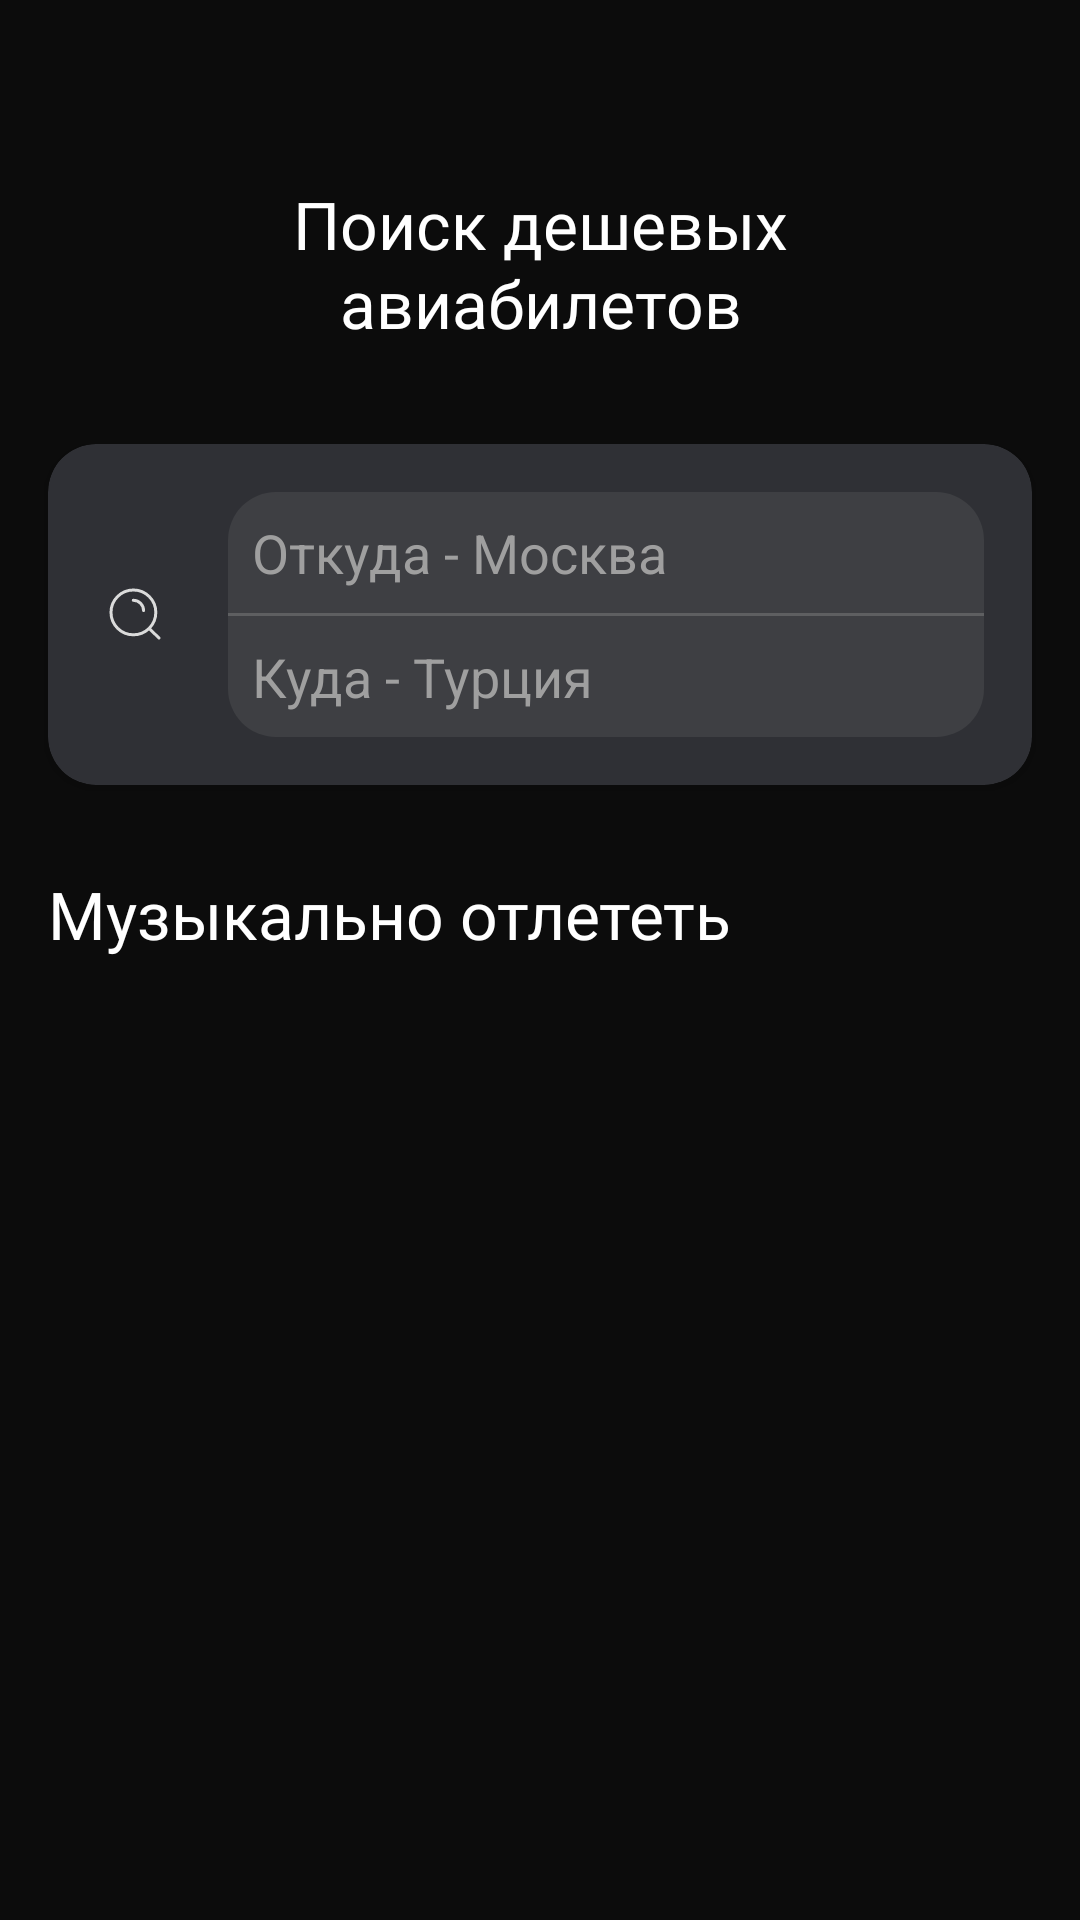

Icon click points for this 1080w x 1920h phone screenshot, format [x,y]:
search: [135,614]
